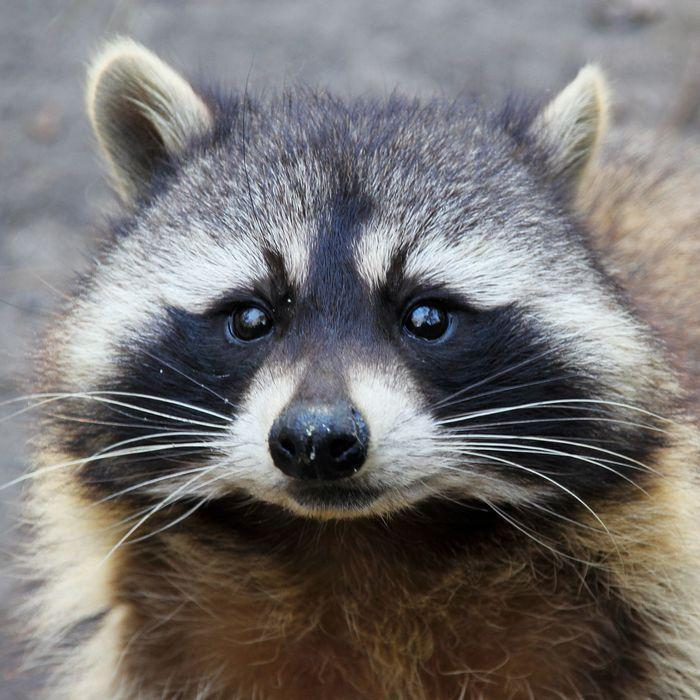raccoon: (26, 35, 700, 700)
